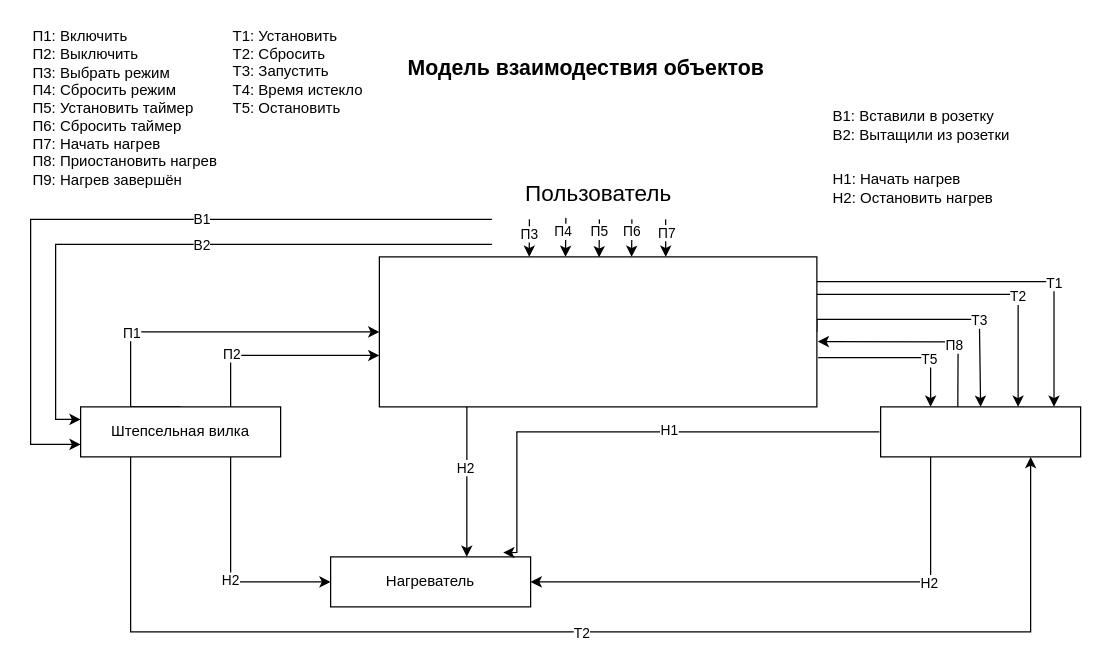
The diagram is 1103 pixels wide and 664 high, and some of its shapes have lost their labels. The centre of each missing label's shape, as x and y in pixels:
"Духовка" goes at (x=597, y=331).
"Таймер" goes at (x=980, y=431).
